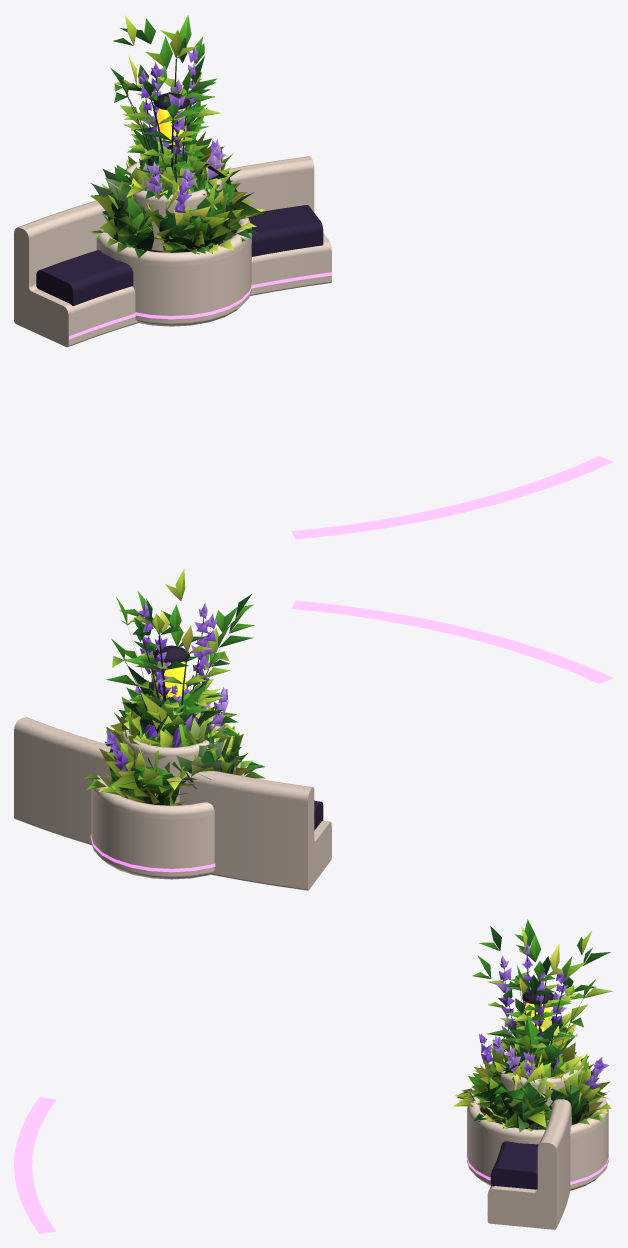
The model's file is decor.glb.
3 views of the same model, one above another, from view 1: azimuth 30°, elevation 25°; view 2: azimuth 150°, elevation 25°; view 3: azimuth 270°, elevation 25° (orthographic). The views are drawn at different scales.
Visible parts, largest first — view 1: bench_arc_Body, pot_tall_Leaf, pot_round_a_Body, bench_arc_Seat, pot_round_a_Leaf, pot_round_b_Leaf, floor_arc_Neon, pot_round_a_Cap, pot_tall_Flower, pot_round_a_Flower, pot_tall_Cap; view 2: bench_arc_Body, pot_tall_Leaf, pot_round_a_Body, pot_round_b_Leaf, floor_arc_Neon, pot_round_a_Leaf, pot_round_a_Cap, pot_tall_Flower, pot_round_a_Flower, pot_tall_Cap, pot_round_a_Neon, lamp_post_Amber (+1 smaller); view 3: pot_tall_Leaf, bench_arc_Body, pot_round_b_Leaf, pot_round_a_Leaf, pot_round_a_Body, floor_arc_Neon, bench_arc_Seat, pot_round_a_Cap, pot_tall_Flower, pot_round_a_Flower, pot_tall_Cap.
Part boxes in pixels (<box>): bench_arc_Body: <box>14,156,331,347</box>; pot_tall_Leaf: <box>110,15,226,199</box>; pot_round_a_Body: <box>96,234,251,326</box>; bench_arc_Seat: <box>36,205,323,305</box>; pot_round_a_Leaf: <box>90,149,264,258</box>; pot_round_b_Leaf: <box>90,154,263,263</box>; floor_arc_Neon: <box>291,456,613,539</box>; pot_round_a_Cap: <box>96,218,251,266</box>; pot_tall_Flower: <box>138,48,197,155</box>; pot_round_a_Flower: <box>145,136,226,197</box>; pot_tall_Cap: <box>124,162,222,206</box>; bench_arc_Body: <box>14,717,331,890</box>; pot_tall_Leaf: <box>106,568,254,744</box>; pot_round_a_Body: <box>91,789,214,879</box>; pot_round_b_Leaf: <box>84,702,265,805</box>; floor_arc_Neon: <box>291,600,613,683</box>; pot_round_a_Leaf: <box>99,687,264,805</box>; pot_round_a_Cap: <box>91,762,248,819</box>; pot_tall_Flower: <box>137,602,217,701</box>; pot_round_a_Flower: <box>106,680,229,771</box>; pot_tall_Cap: <box>121,718,220,759</box>; pot_round_a_Neon: <box>90,834,215,872</box>; lamp_post_Amber: <box>157,661,186,697</box>; pot_tall_Leaf: <box>472,919,613,1080</box>; bench_arc_Body: <box>487,1047,571,1229</box>; pot_round_b_Leaf: <box>455,1034,611,1132</box>; pot_round_a_Leaf: <box>453,1028,599,1131</box>; pot_round_a_Body: <box>467,1112,608,1190</box>; floor_arc_Neon: <box>14,1097,56,1233</box>; bench_arc_Seat: <box>490,1141,538,1189</box>; pot_round_a_Cap: <box>467,1094,608,1141</box>; pot_tall_Flower: <box>496,942,568,1035</box>; pot_round_a_Flower: <box>492,1015,609,1100</box>; pot_tall_Cap: <box>493,1051,582,1088</box>.
Size of the model in its own units: 2.52 by 2.06 by 4.66.
